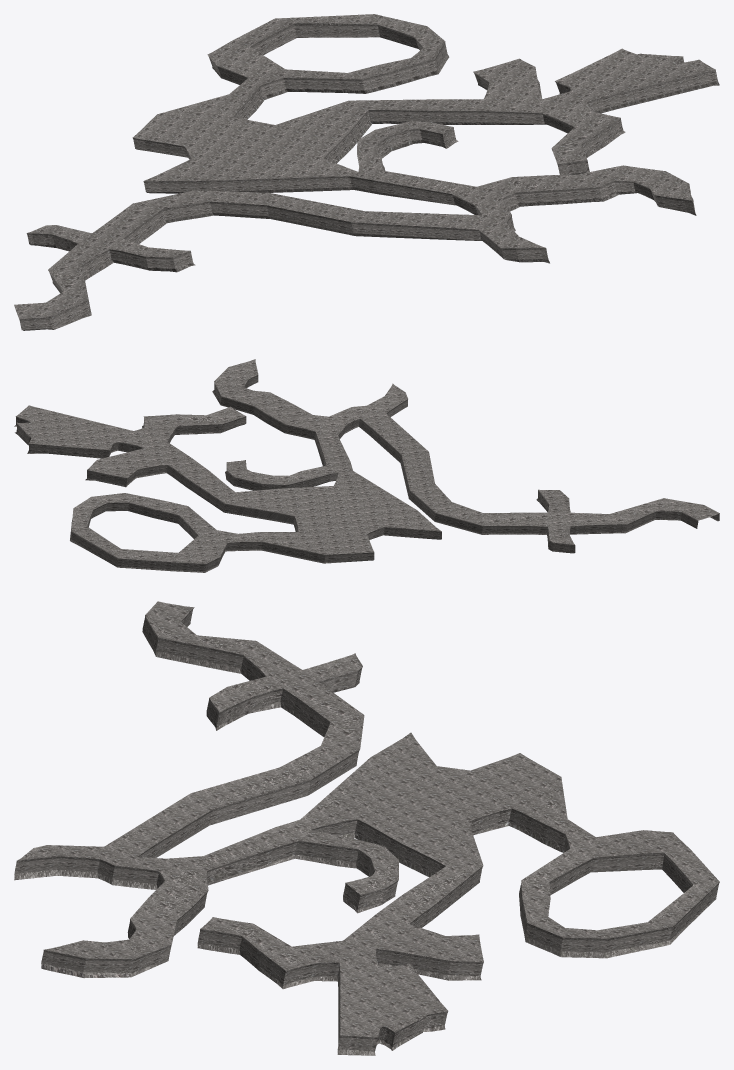
File: CaveMapWalls.fbx
3 renders of one model, top to bottom at view 1: azimuth 30°, elevation 25°; view 2: azimuth 150°, elevation 25°; view 3: azimuth 270°, elevation 25°, orthographic. The views are drawn at different scales.
Visible parts, largest first — view 1: ParedesTeto; view 2: ParedesTeto; view 3: ParedesTeto.
Part boxes in pixels (bbox=[...]): ParedesTeto: bbox=[14, 14, 719, 330]; ParedesTeto: bbox=[14, 359, 719, 572]; ParedesTeto: bbox=[14, 601, 719, 1055].
Size of the model in its own units: 5150 by 104 by 3506.
Materials: 1 (1 with a texture image).
